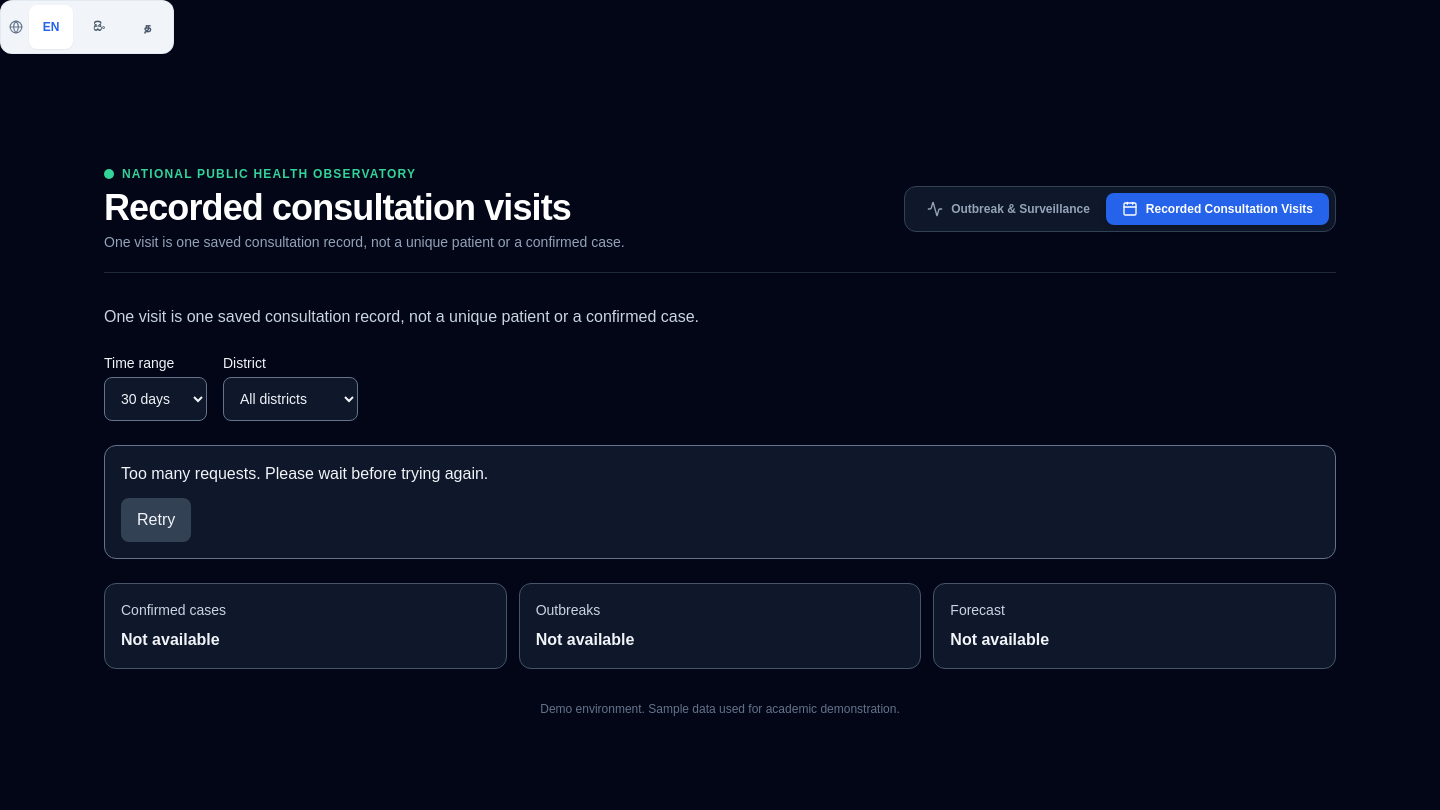
it: 429 and retry never expose stale totals or invoke the confirmed-case endpoint
Expected: the message shows "Too many requests. Please wait before trying again.", [121,465,488,482]
Click the button "Retry" at (156, 520), box [121,498,191,542]
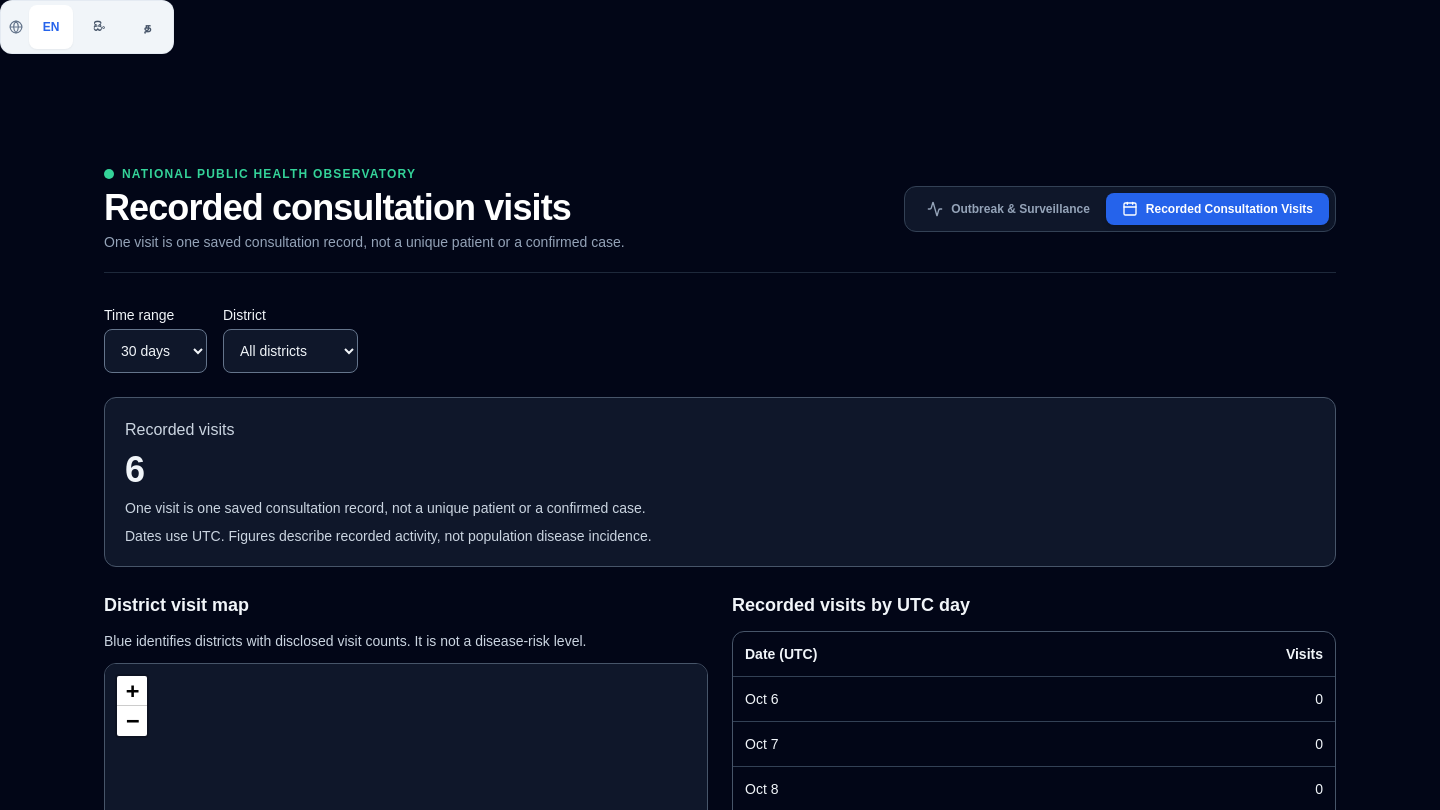
Now the text "6" is shown, box [125,449,145,490]
